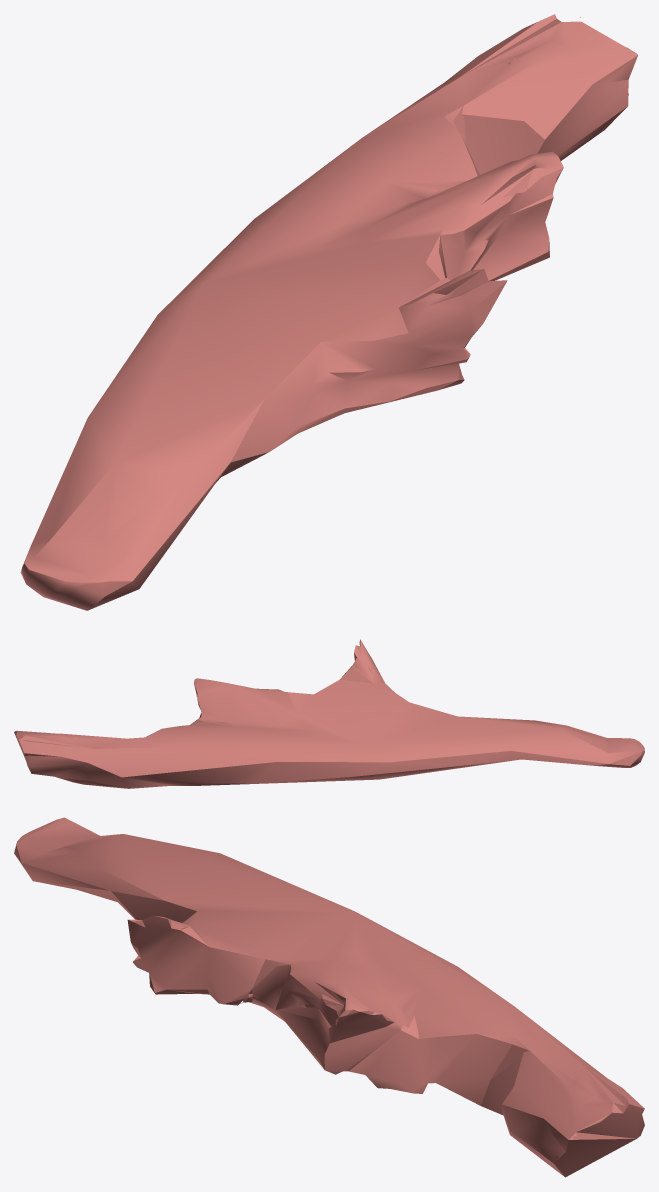
File: fma46021_fj1445m.glb
The picture shows the model from 3 angles, top to bottom: view 1: azimuth 30°, elevation 25°; view 2: azimuth 150°, elevation 25°; view 3: azimuth 270°, elevation 25°; orthographic projection. The views are drawn at different scales.
Parts seen in each view (by area): view 1: FMA46021_FJ1445M; view 2: FMA46021_FJ1445M; view 3: FMA46021_FJ1445M.
Boxes of the visible parts, x1=… form: FMA46021_FJ1445M: x1=20, y1=14, x2=637, y2=610; FMA46021_FJ1445M: x1=14, y1=639, x2=644, y2=788; FMA46021_FJ1445M: x1=14, y1=817, x2=644, y2=1177.
Size of the model in its own units: 0.0418 by 0.00722 by 0.031.
